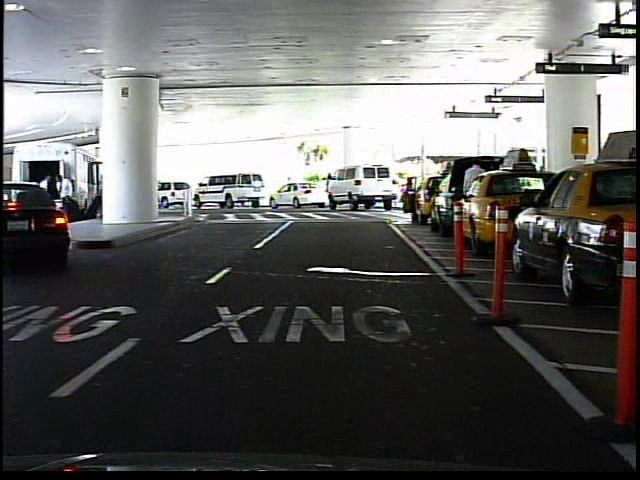person: (458, 155, 489, 237), (399, 174, 415, 208), (280, 173, 296, 204)
